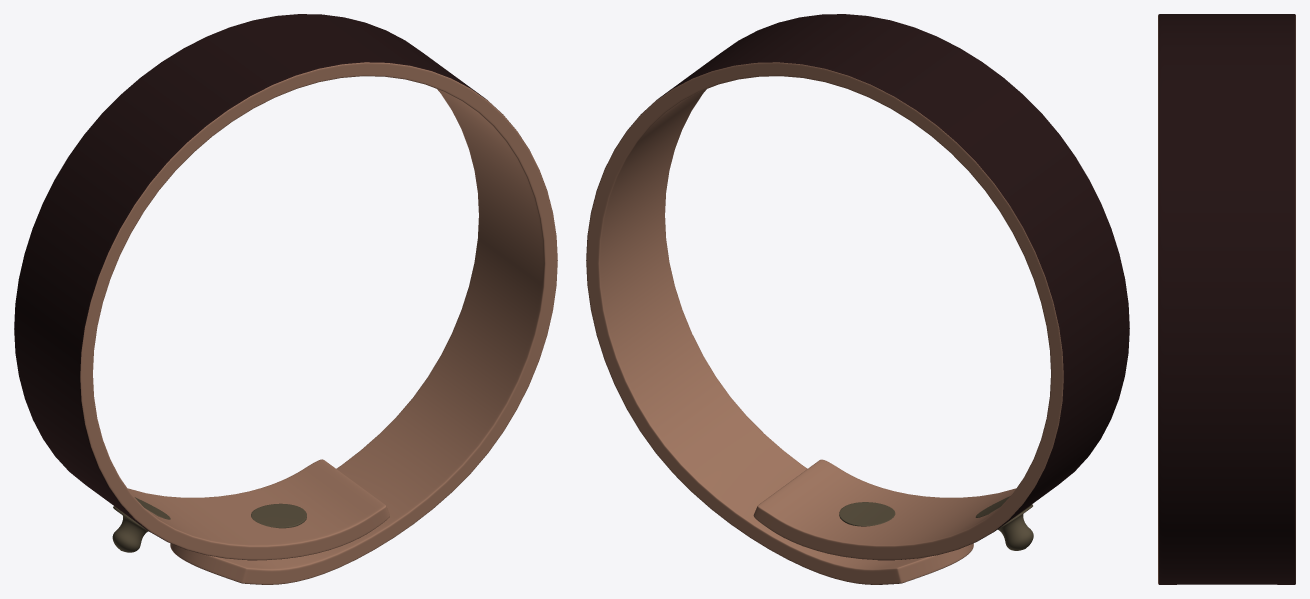
File: 13096_leather_strap_bracelet_v2_L3.obj
The picture shows the model from 3 angles, left to right: view 1: azimuth 30°, elevation 25°; view 2: azimuth 150°, elevation 25°; view 3: azimuth 270°, elevation 25°; orthographic projection. The views are drawn at different scales.
Visible parts, largest first — view 1: leather_strap_bracelet_body, leather_strap_bracelet_1; view 2: leather_strap_bracelet_body, leather_strap_bracelet_1; view 3: leather_strap_bracelet_body.
Boxes of the visible parts, x1=… form: leather_strap_bracelet_body: x1=14, y1=14, x2=557, y2=584; leather_strap_bracelet_1: x1=112, y1=497, x2=306, y2=552; leather_strap_bracelet_body: x1=586, y1=14, x2=1129, y2=584; leather_strap_bracelet_1: x1=839, y1=496, x2=1033, y2=550; leather_strap_bracelet_body: x1=1158, y1=14, x2=1295, y2=584.
Size of the model in its own units: 19.16 by 19.76 by 4.61.
2 materials, 1 textured.
